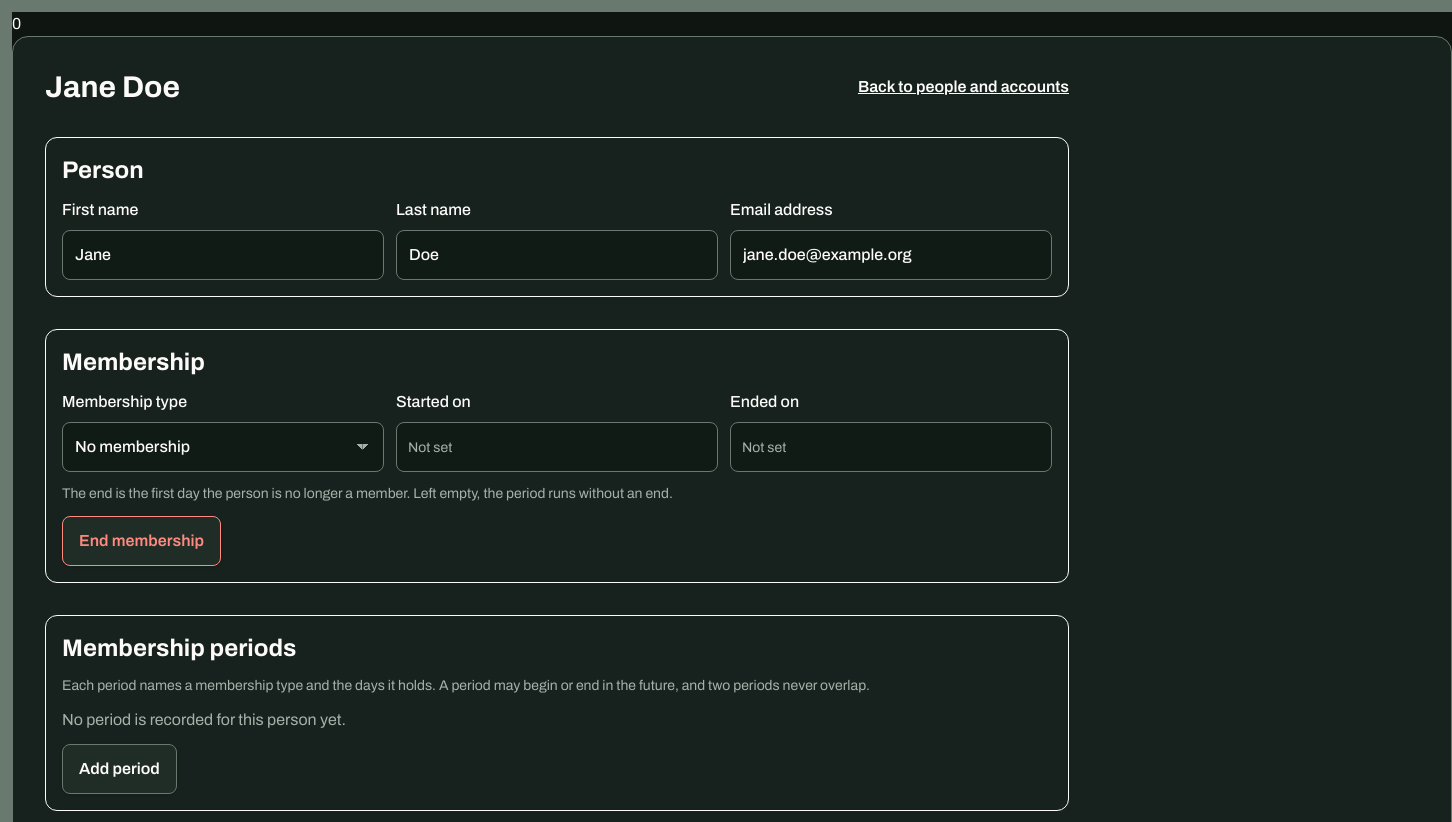
Test: AdminPersonView › given a membership without a type, when the page is saved, then nothing is sent and the type is asked for
This screenshot has width=1452, height=822.
Check: the field with test id "membership-started-on" is shown, box [396,422,718,472]
Type "!" into the field with test id "person-first-name" at (223, 255), box [62,230,384,280]
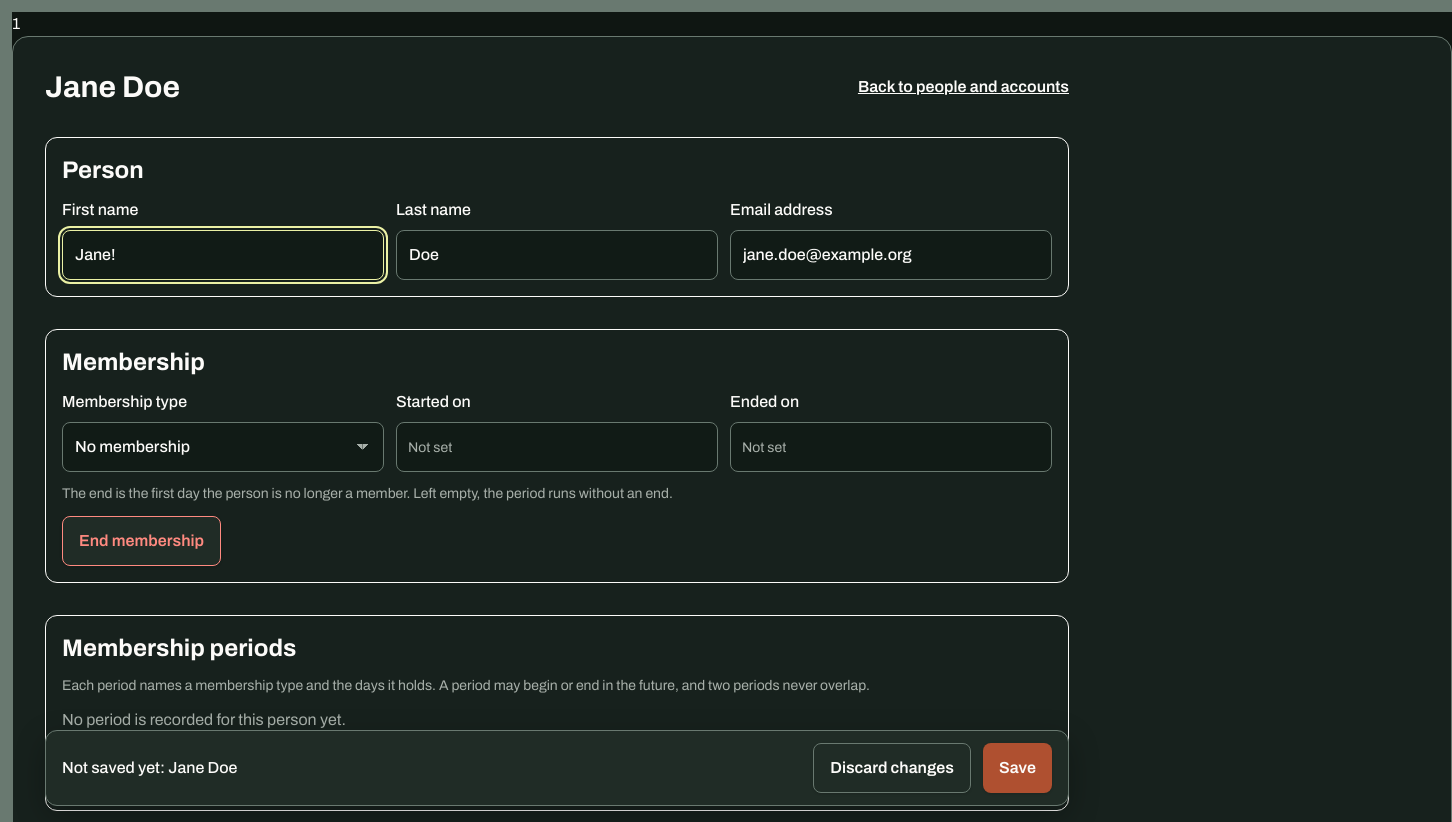
Type "2026-02-01" into the field with test id "membership-started-on" at (557, 447), box [396,422,718,472]
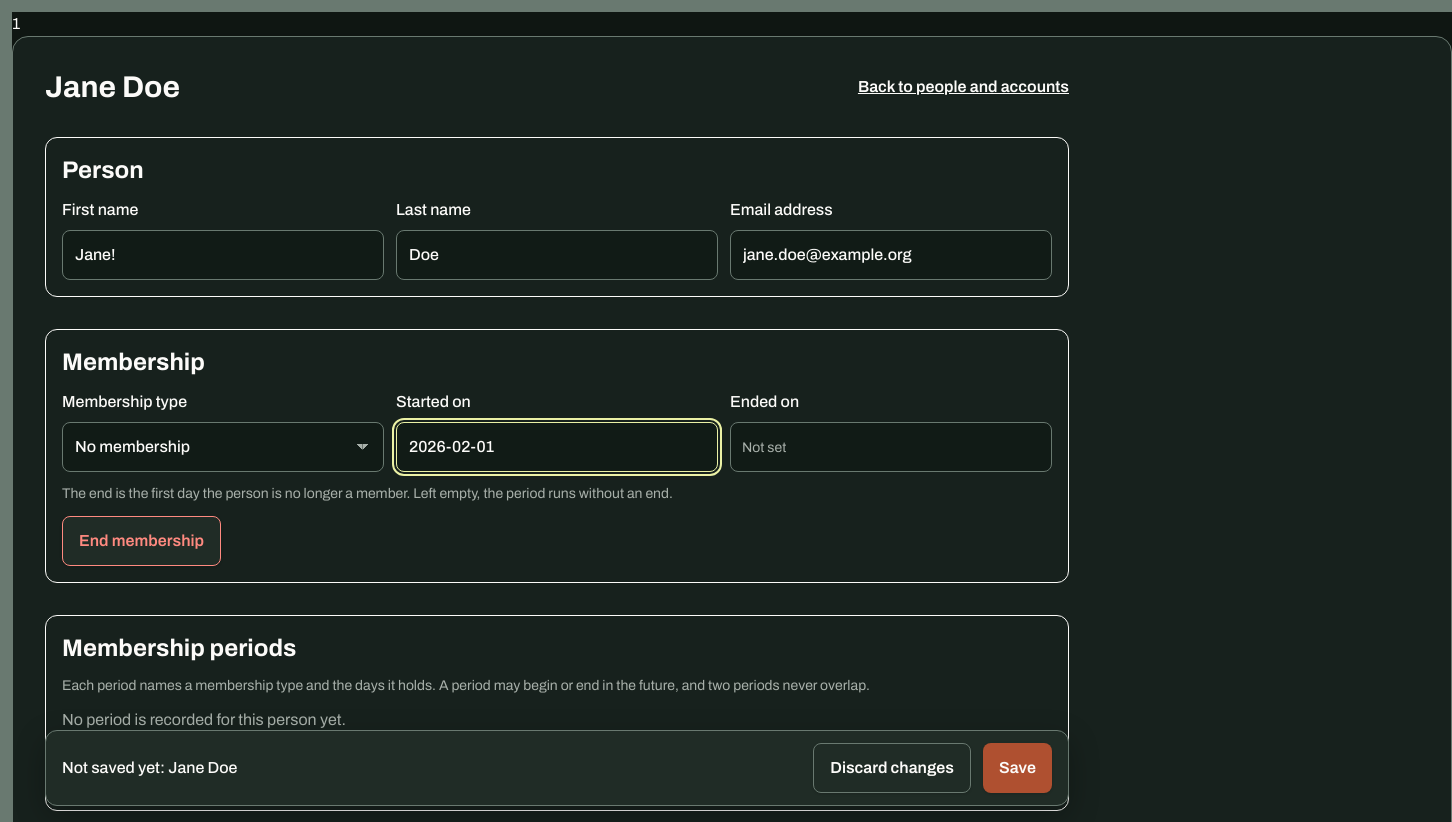
Click the button with test id "save-person" at (1018, 768), box [983,743,1052,793]
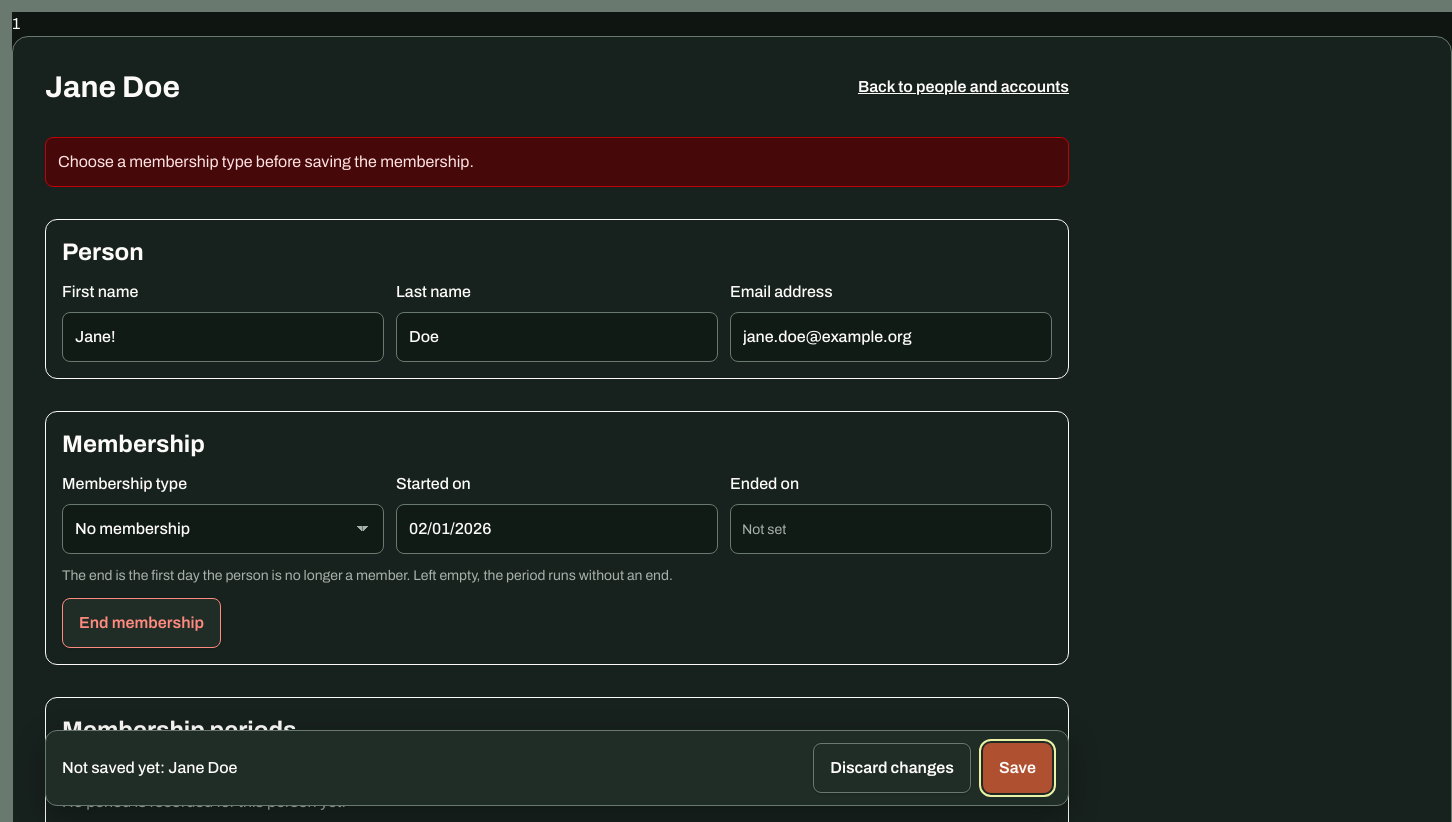
Check: the message shows "Choose a membership type", box [58,153,474,170]
